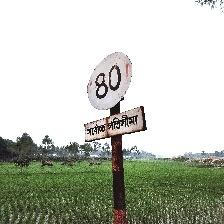Speed-limit: (84, 51, 145, 143)
